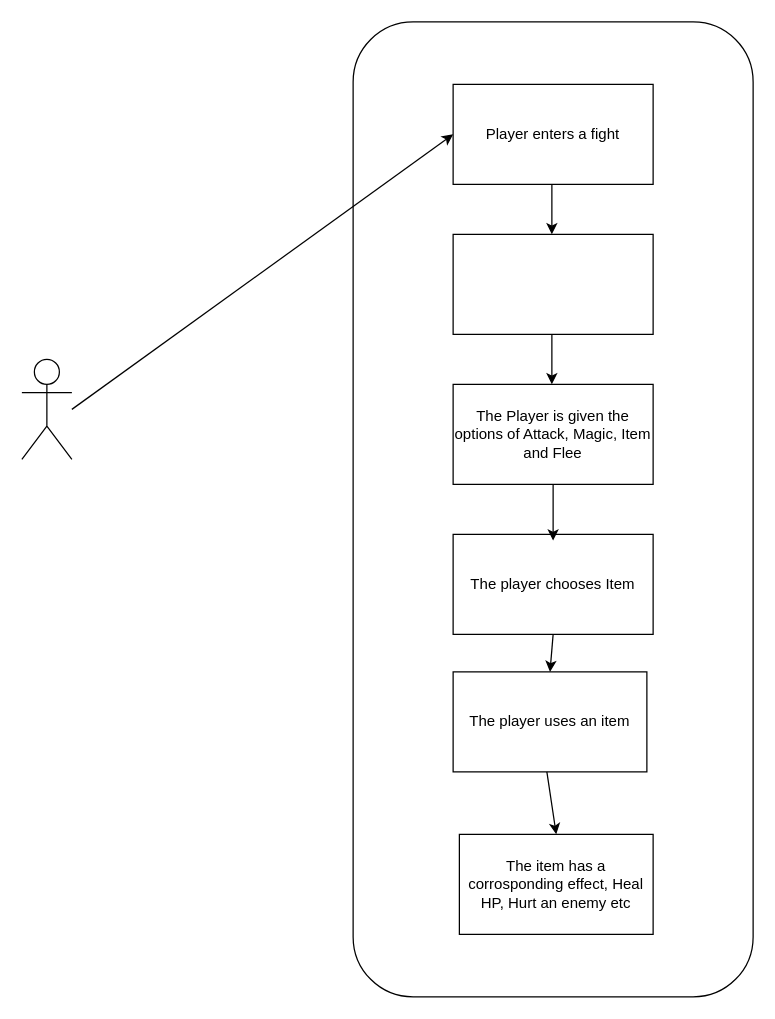
The diagram is 775 pixels wide and 1019 high, and some of its shapes have lost their labels. Here are the shapes that lost their labels. From the top down, the centre of each, then its label:
the point at 552,283: The fight menu pops up
the point at 46,408: Player
